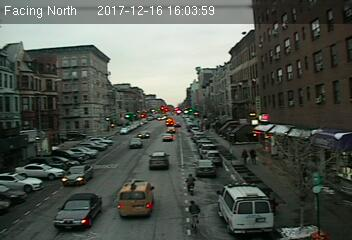bicycle: (184, 197, 201, 234), (183, 172, 196, 197)
car: (50, 193, 101, 228), (116, 179, 154, 217), (60, 163, 93, 184), (148, 151, 171, 170), (195, 159, 215, 176), (203, 151, 223, 167), (128, 137, 143, 149), (161, 133, 173, 141), (138, 131, 149, 137)
police: (214, 180, 275, 233)
